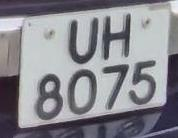0: (66, 63, 103, 119)
5: (128, 55, 159, 109)
7: (99, 58, 132, 116)
8: (31, 64, 69, 127)
H: (100, 6, 139, 67)
U: (62, 9, 105, 71)
